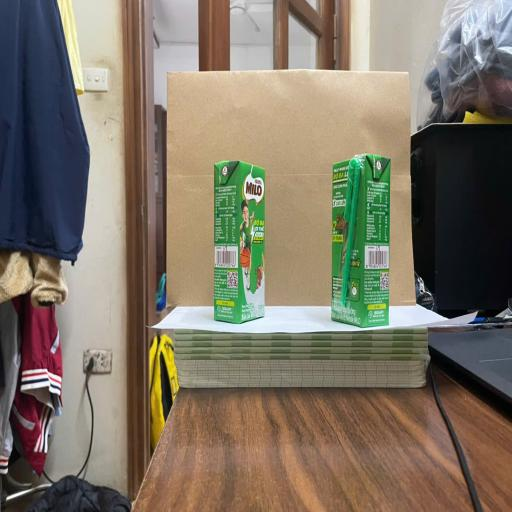milo: (332, 154, 390, 328), (213, 158, 265, 326)
